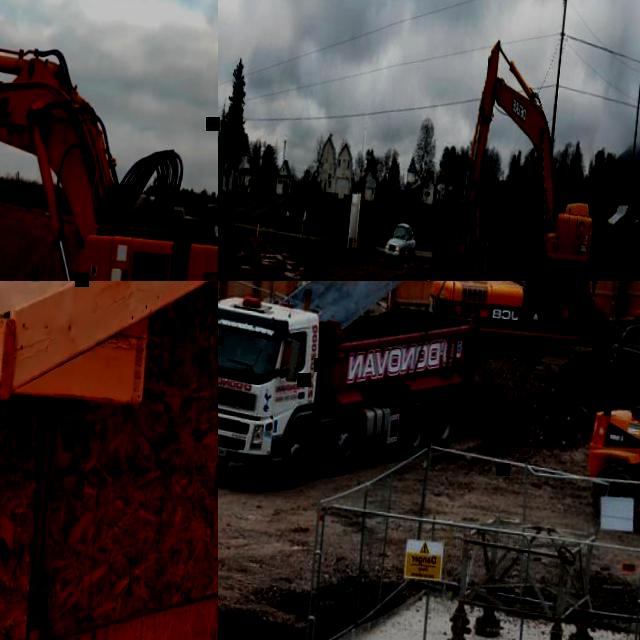machinery: (218, 281, 488, 508), (0, 31, 218, 281), (429, 28, 611, 281), (421, 281, 640, 404), (584, 318, 640, 560)
no_helmet: (570, 281, 579, 288)
person: (549, 281, 579, 314)
vehicle: (385, 220, 420, 270)
vest: (549, 281, 568, 304)
